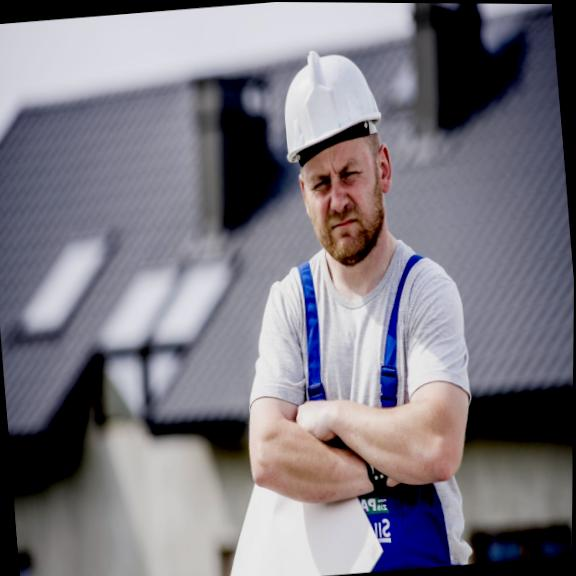no_safety_vest: (251, 226, 482, 535)
